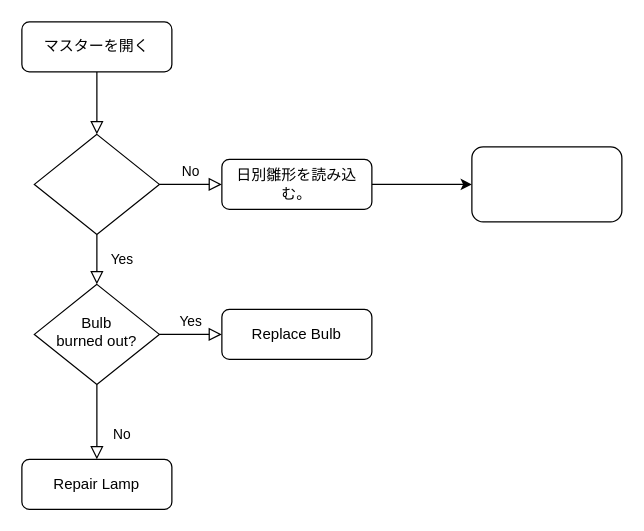
This 644x531 diagram has some shape labels left out. The shapes that lost their labels are listed below. From the top down, each one's centre as x and y in pixels, then its label:
At point 96,183: "日付入力 新規ですか。".
At point 546,184: "雛形： まずは先頭の日付を直す。".
